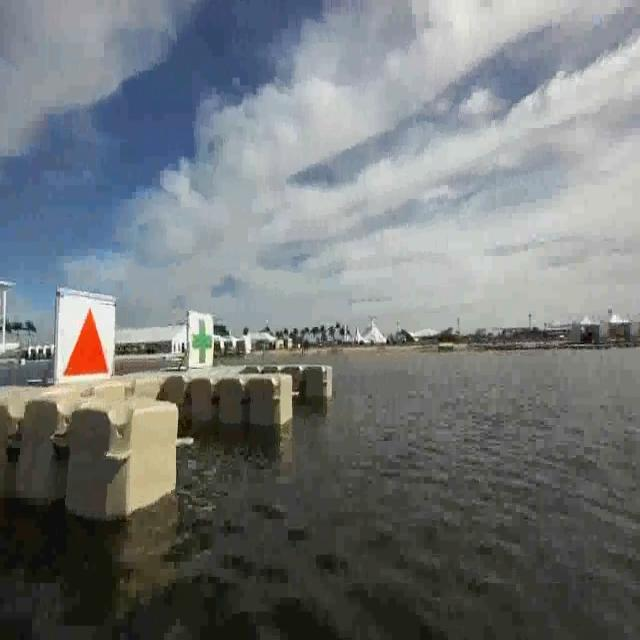blue-cross: (187, 313, 216, 369)
red-dot: (55, 288, 113, 390)
